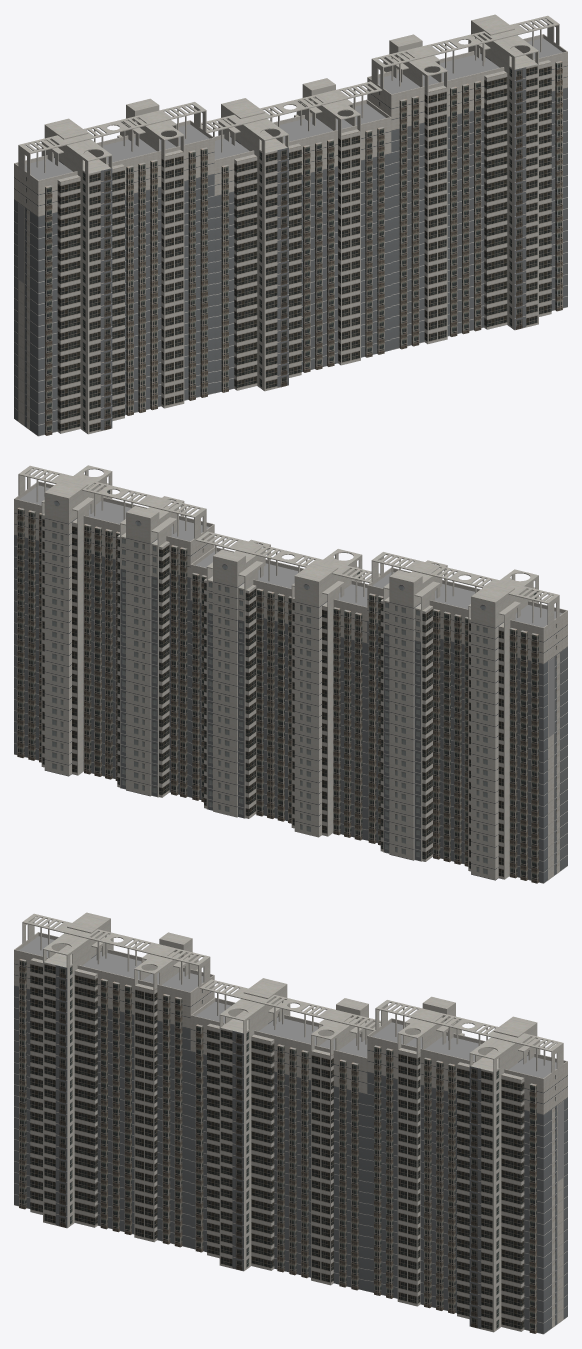
The model's file is side building21.FBX.
The picture shows the model from 3 angles, top to bottom: view 1: azimuth 30°, elevation 25°; view 2: azimuth 150°, elevation 25°; view 3: azimuth 330°, elevation 25°; orthographic projection.
Visible parts, largest first — view 1: 创业公寓; view 2: 创业公寓; view 3: 创业公寓.
Part boxes in pixels (x1=…): 创业公寓: x1=14, y1=14, x2=567, y2=436; 创业公寓: x1=14, y1=465, x2=567, y2=883; 创业公寓: x1=14, y1=912, x2=567, y2=1334.
Bounding box in the file's own units: 154 × 21.9 × 77.29.
